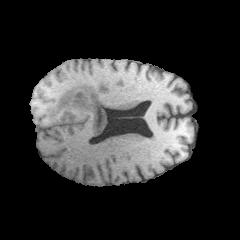glioma: (46, 83, 127, 135)
